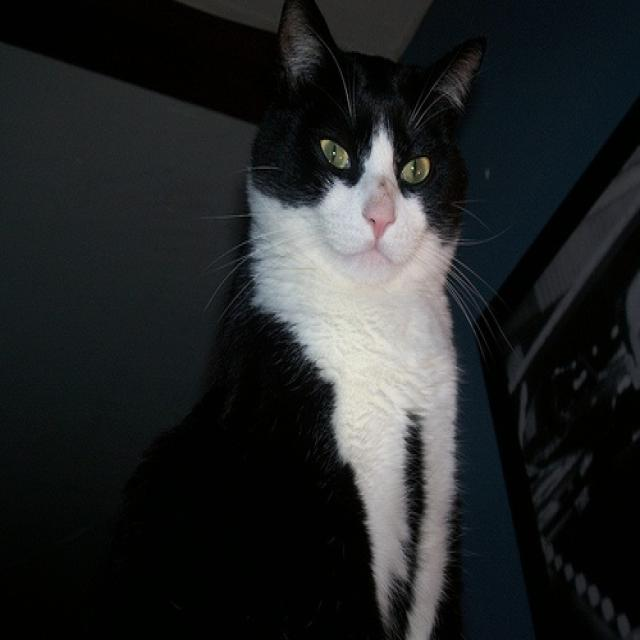cat: (116, 5, 489, 638)
